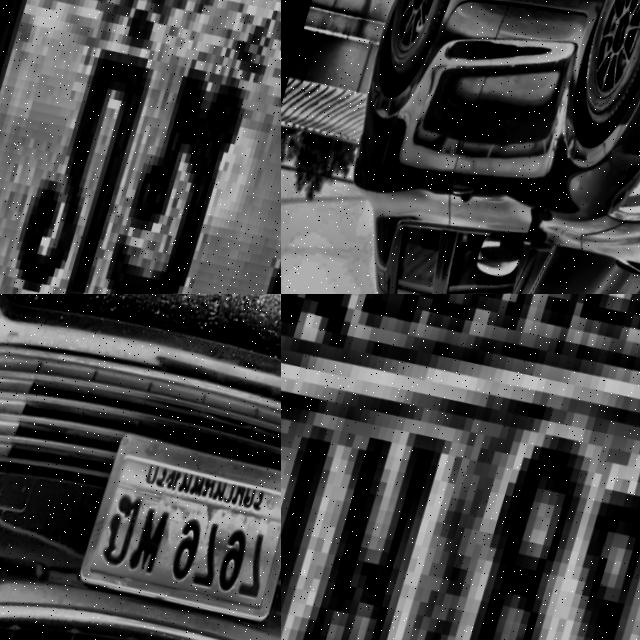license-plate: (281, 294, 640, 640), (0, 0, 281, 294), (70, 428, 281, 640)
